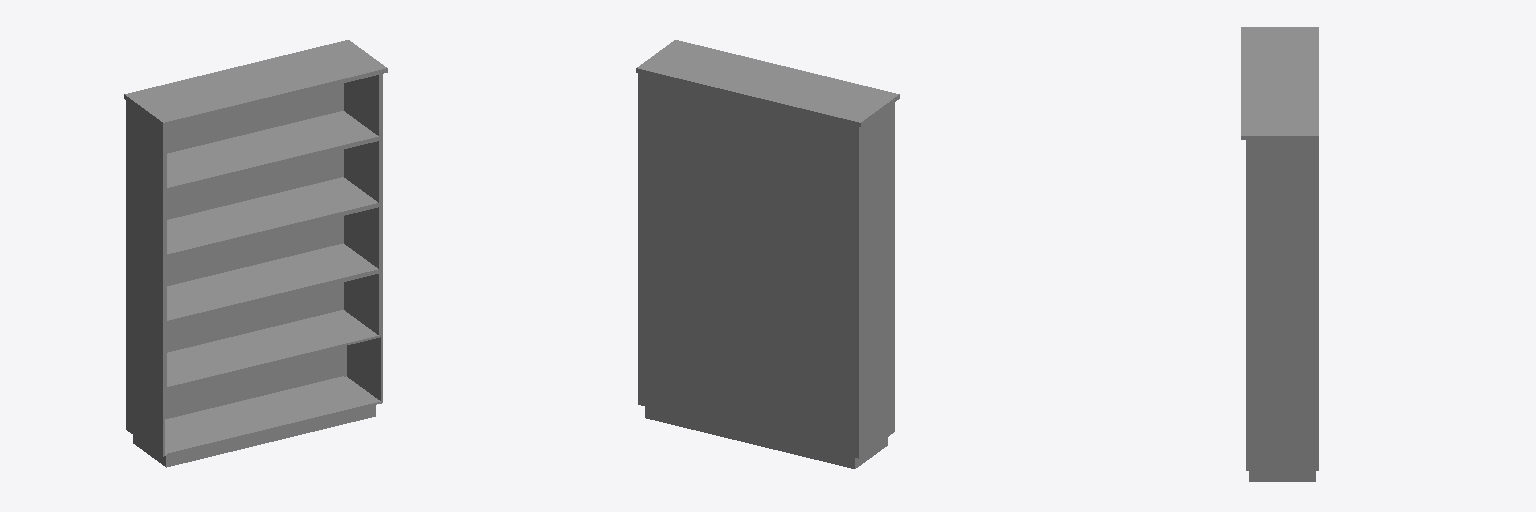
File: modi2_desk.obj
The picture shows the model from 3 angles: view 1: azimuth 30°, elevation 25°; view 2: azimuth 150°, elevation 25°; view 3: azimuth 270°, elevation 25°; orthographic projection.
Visible parts, largest first — view 1: Default.001; view 2: Default.001; view 3: Default.001.
Boxes of the visible parts, box(x1,y1,x2,y2) form: Default.001: box(124, 40, 387, 467); Default.001: box(636, 40, 899, 468); Default.001: box(1241, 27, 1318, 481).
Size of the model in its own units: 1.72 by 2.56 by 0.5191.